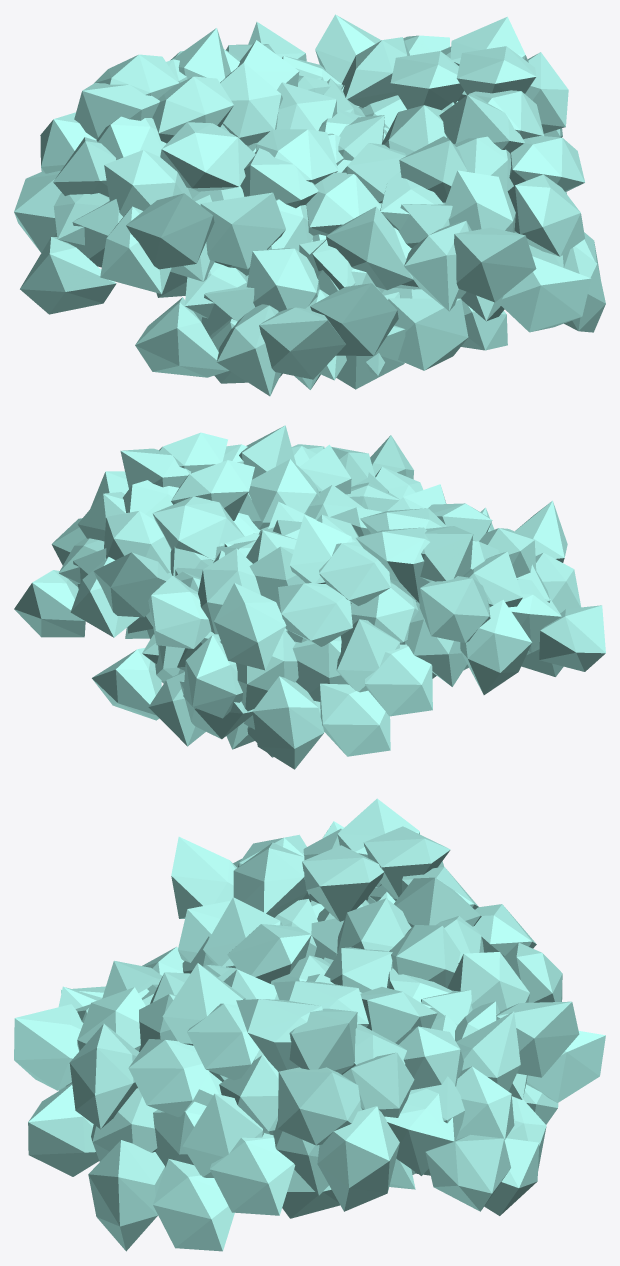
The model's file is ore.fbx.
3 views of the same model, one above another, from view 1: azimuth 30°, elevation 25°; view 2: azimuth 150°, elevation 25°; view 3: azimuth 270°, elevation 25° (orthographic). The views are drawn at different scales.
Parts seen in each view (by area): view 1: piece.201; view 2: piece.201; view 3: piece.201.
Part boxes in pixels (x1,y1,x2,y2): piece.201: (14, 14, 605, 396); piece.201: (14, 425, 605, 769); piece.201: (14, 798, 605, 1251).
Bounding box in the file's own units: 1499 × 663 × 1291.
Materials: 1 (1 with a texture image).
